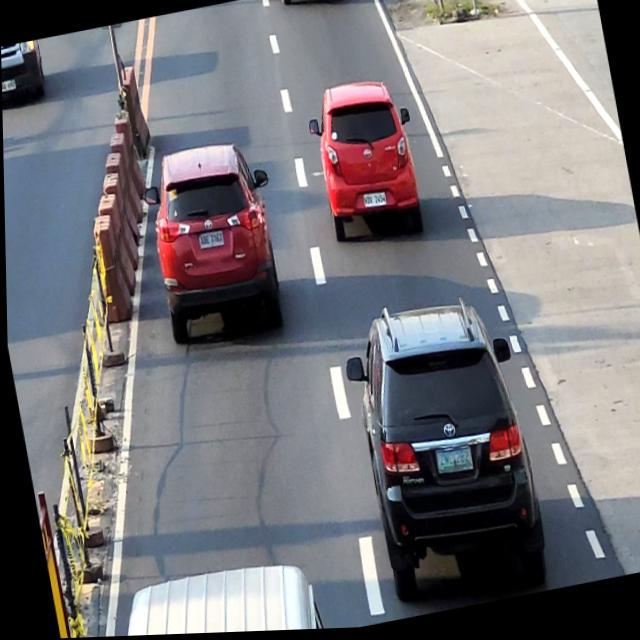Car: (335, 287, 549, 615), (136, 136, 294, 354), (302, 75, 430, 257), (1, 39, 48, 110)
License-Plate: (434, 450, 472, 478), (197, 232, 223, 250), (362, 195, 386, 212), (1, 81, 17, 92)
